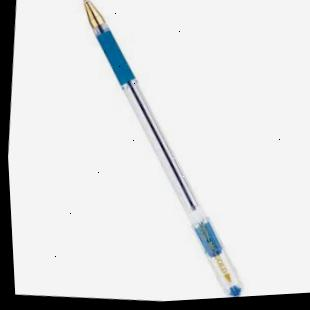pen-pencil: (84, 0, 243, 295), (84, 0, 205, 217)
